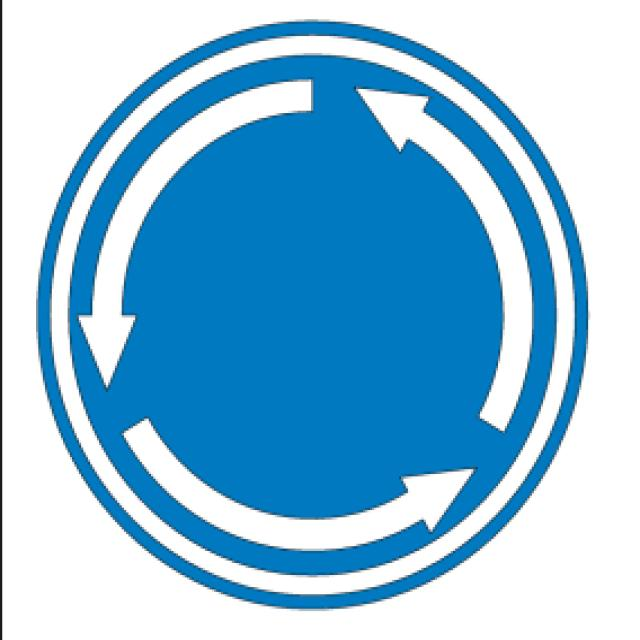Straight: (34, 17, 590, 611)
